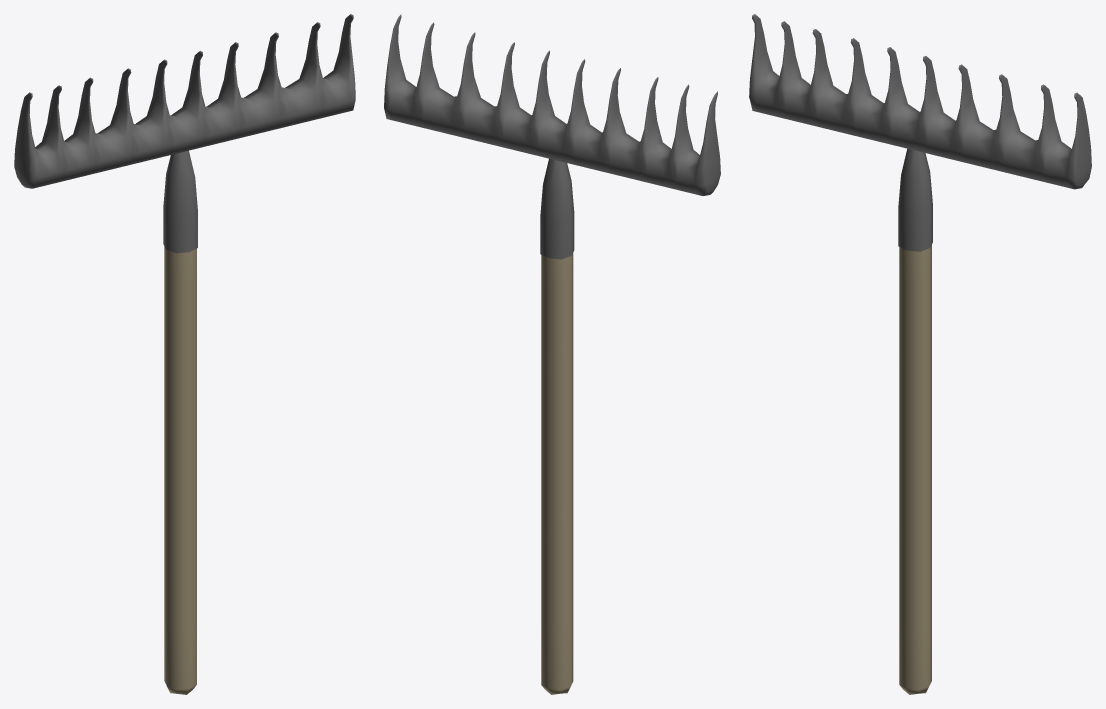
The model's file is trmk.fbx.
3 views of the same model, side by side, from view 1: azimuth 30°, elevation 25°; view 2: azimuth 150°, elevation 25°; view 3: azimuth 330°, elevation 25° (orthographic).
Parts seen in each view (by area): view 1: polySurface2; view 2: polySurface2; view 3: polySurface2.
Part boxes in pixels (x1,y1,x2,y2): polySurface2: (14,14,355,694); polySurface2: (384,14,720,694); polySurface2: (749,14,1091,694).
Size of the model in its own units: 306 by 571 by 31.55.
